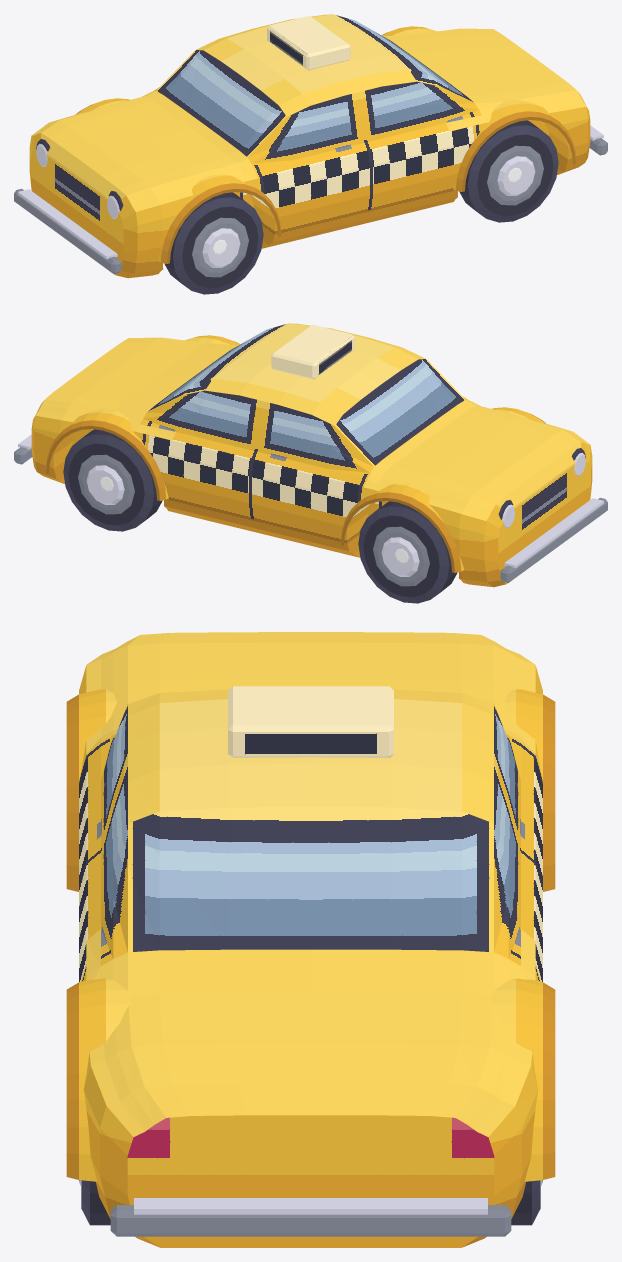
File: retro-taxi-v1.glb
The picture shows the model from 3 angles, top to bottom: view 1: azimuth 30°, elevation 25°; view 2: azimuth 150°, elevation 25°; view 3: azimuth 270°, elevation 25°; orthographic projection. The views are drawn at different scales.
Visible parts, largest first — view 1: Body_static, Wheel_RL_tire_hub, Wheel_FL_tire_hub; view 2: Body_static, Wheel_RR_tire_hub, Wheel_FR_tire_hub; view 3: Body_static, Wheel_RL_tire_hub, Wheel_RR_tire_hub.
Part boxes in pixels (x1=…): Body_static: x1=14, y1=14, x2=607, y2=278; Wheel_RL_tire_hub: x1=459, y1=120, x2=558, y2=222; Wheel_FL_tire_hub: x1=164, y1=192, x2=263, y2=294; Body_static: x1=14, y1=323, x2=607, y2=587; Wheel_RR_tire_hub: x1=63, y1=429, x2=162, y2=531; Wheel_FR_tire_hub: x1=358, y1=501, x2=457, y2=603; Body_static: x1=66, y1=632, x2=555, y2=1247; Wheel_RL_tire_hub: x1=79, y1=1180, x2=110, y2=1225; Wheel_RR_tire_hub: x1=511, y1=1180, x2=542, y2=1225.
Bounding box in the file's own units: 81.83 × 28.7 × 34.78.
1 material, 1 textured.
